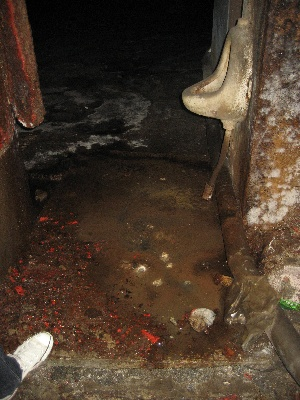toilet: (180, 17, 255, 203)
